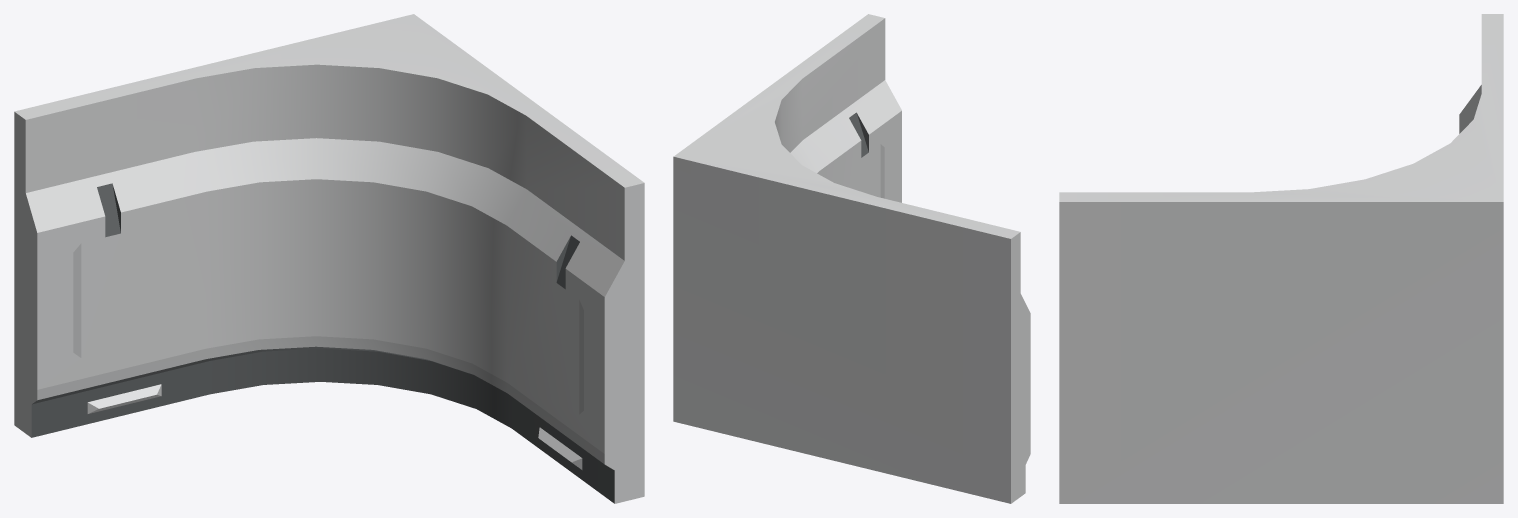
Rendered from Wall_type_A_070.fbx.
3 renders of one model, left to right at view 1: azimuth 30°, elevation 25°; view 2: azimuth 150°, elevation 25°; view 3: azimuth 270°, elevation 25°, orthographic. The views are drawn at different scales.
Visible parts, largest first — view 1: Wall_type_A_070; view 2: Wall_type_A_070; view 3: Wall_type_A_070.
Part boxes in pixels (x1,y1,x2,y2): Wall_type_A_070: (14,14,644,503); Wall_type_A_070: (673,14,1030,503); Wall_type_A_070: (1059,14,1503,503).
Bounding box in the file's own units: 200 × 200 × 150.
